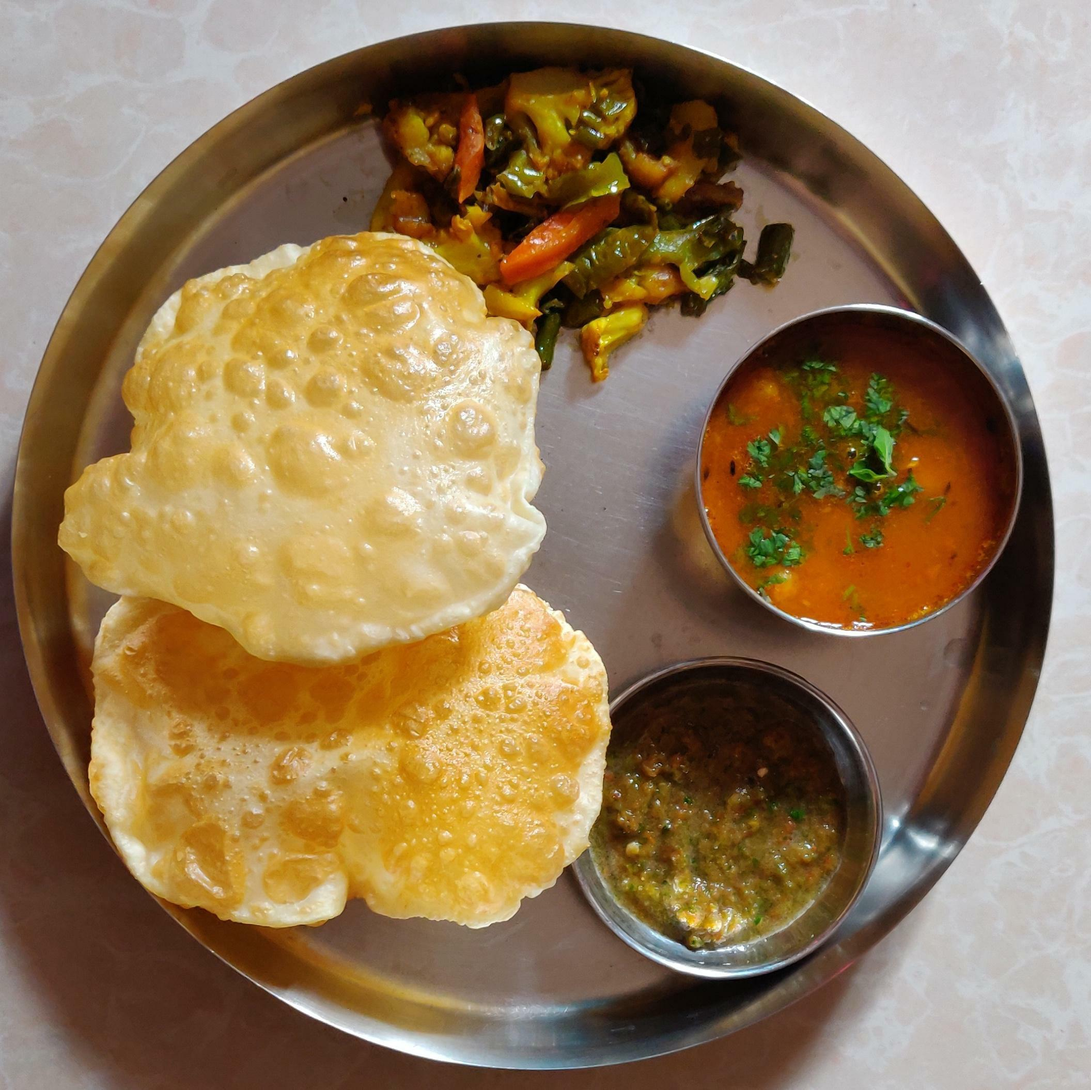Bhatura: (57, 232, 547, 666), (88, 581, 611, 929)
